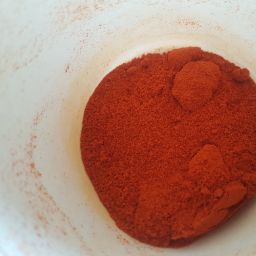Red chilli: (74, 42, 256, 247), (109, 75, 253, 214)
